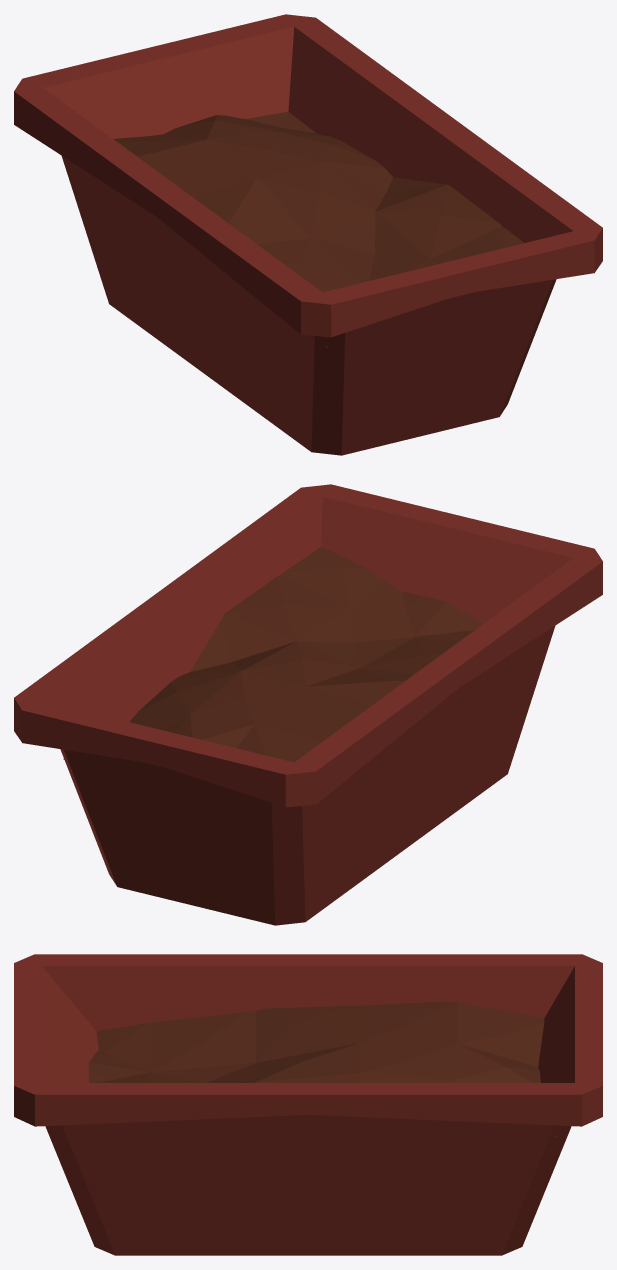
The model's file is planting-1.fbx.
3 views of the same model, one above another, from view 1: azimuth 30°, elevation 25°; view 2: azimuth 150°, elevation 25°; view 3: azimuth 270°, elevation 25° (orthographic). The views are drawn at different scales.
Visible parts, largest first — view 1: Cube, Cube.001; view 2: Cube, Cube.001; view 3: Cube, Cube.001.
Part boxes in pixels (<box>): Cube: <box>14,14,602,455</box>; Cube.001: <box>113,111,523,347</box>; Cube: <box>14,484,602,925</box>; Cube.001: <box>63,547,482,762</box>; Cube: <box>14,954,602,1255</box>; Cube.001: <box>88,1002,557,1137</box>.
Bounding box in the file's own units: 122 × 75.37 × 217.
